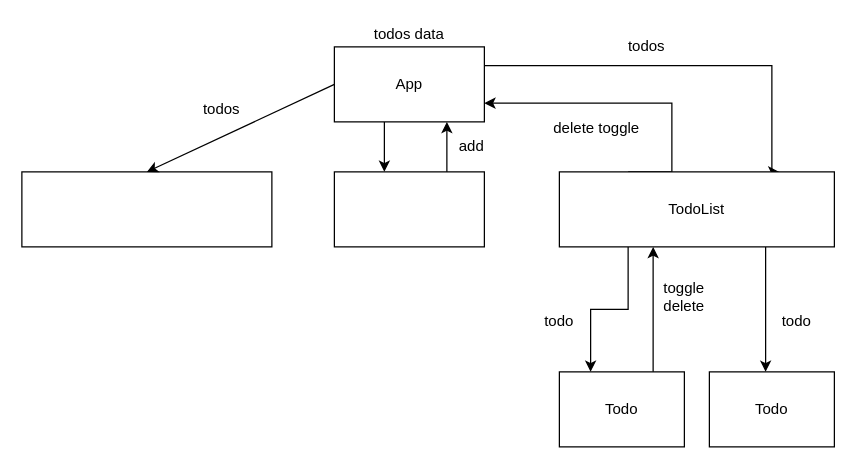
This 856x469 diagram has some shape labels left out. Each missing label, with the box of its shape:
AddTodo: (333, 171, 484, 247)
CompletedTodo: (21, 171, 272, 247)
